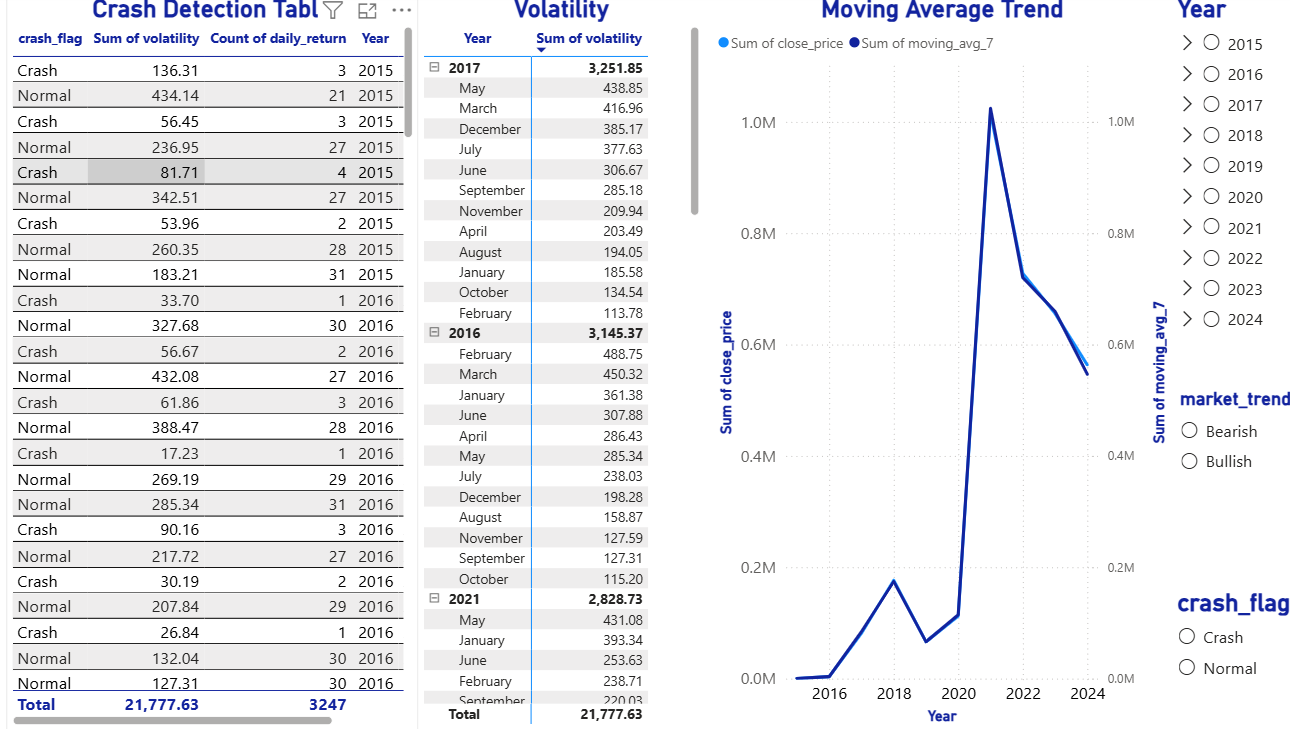

This screenshot's page, from the dashboard's own definition file:
{"tool":"powerbi","page":{"name":"Risk Analysis","canvas":[1280,720],"ordinal":3},"visuals":[{"type":"tableEx","title":"Crash Detection Table","fields":{"Values":["cleaned_crypto_data.crash_flag","Sum(cleaned_crypto_data.volatility)","CountNonNull(cleaned_crypto_data.daily_return)","cleaned_crypto_data.start_date.Variation.Date Hierarchy.Year","cleaned_crypto_data.start_date.Variation.Date Hierarchy.Month"]},"box":[11.1,0,402.5,720],"z":0},{"type":"pivotTable","title":"Volatility","fields":{"Rows":["cleaned_crypto_data.start_date.Variation.Date Hierarchy.Year","cleaned_crypto_data.start_date.Variation.Date Hierarchy.Month"],"Values":["Sum(cleaned_crypto_data.volatility)"]},"box":[413.9,0,279.7,719.5],"z":2000},{"type":"lineChart","title":"Moving Average Trend","fields":{"Category":["cleaned_crypto_data.start_date.Variation.Date Hierarchy.Year","cleaned_crypto_data.start_date.Variation.Date Hierarchy.Quarter","cleaned_crypto_data.start_date.Variation.Date Hierarchy.Month","cleaned_crypto_data.start_date.Variation.Date Hierarchy.Day"],"Y":["Sum(cleaned_crypto_data.close_price)"],"Y2":["Sum(cleaned_crypto_data.moving_avg_7)"]},"box":[702.2,0,449.7,719.5],"z":3000},{"type":"listSlicer","fields":{"Values":["cleaned_crypto_data.start_date.Variation.Date Hierarchy.Year","cleaned_crypto_data.start_date.Variation.Date Hierarchy.Quarter","cleaned_crypto_data.start_date.Variation.Date Hierarchy.Month","cleaned_crypto_data.start_date.Variation.Date Hierarchy.Day"]},"box":[1151.9,0,120.7,341.3],"z":4000},{"type":"listSlicer","fields":{"Values":["cleaned_crypto_data.market_trend"]},"box":[1154.3,385.6,120.7,125.7],"z":5000},{"type":"listSlicer","fields":{"Values":["cleaned_crypto_data.crash_flag"]},"box":[1151.9,580.3,123.2,120.7],"z":6000}]}

Visuals, with their boxes in screenshot pixels (x1, y1, x2, y2), scaled from the page's 1280x720 canvas onto the 1290x729 screenshot:
"Crash Detection Table" tableEx: <bbox>11, 0, 417, 728</bbox>
"Volatility" pivotTable: <bbox>417, 0, 699, 728</bbox>
"Moving Average Trend" lineChart: <bbox>708, 0, 1161, 728</bbox>
listSlicer - cleaned_crypto_data.start_date.Variation.Date Hierarchy.Year x cleaned_crypto_data.start_date.Variation.Date Hierarchy.Quarter: <bbox>1161, 0, 1283, 346</bbox>
listSlicer - cleaned_crypto_data.market_trend: <bbox>1163, 390, 1285, 518</bbox>
listSlicer - cleaned_crypto_data.crash_flag: <bbox>1161, 588, 1285, 710</bbox>
